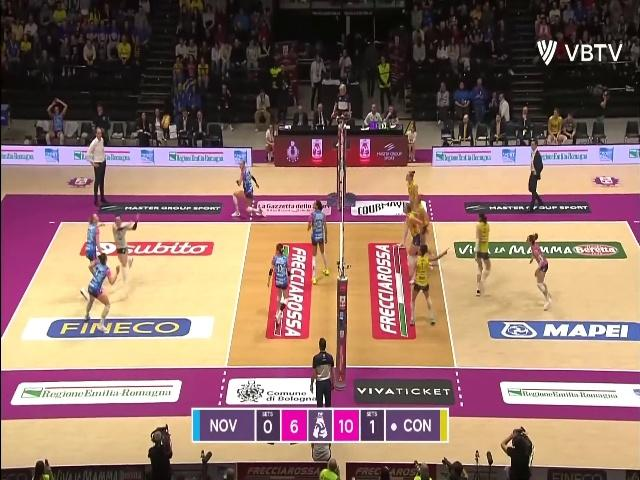volleyball court: (1, 221, 638, 373)
